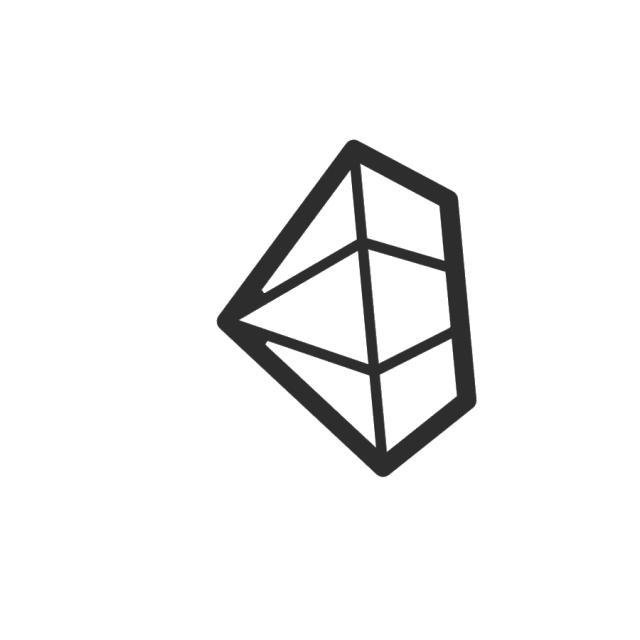diamond: (210, 133, 484, 488)
